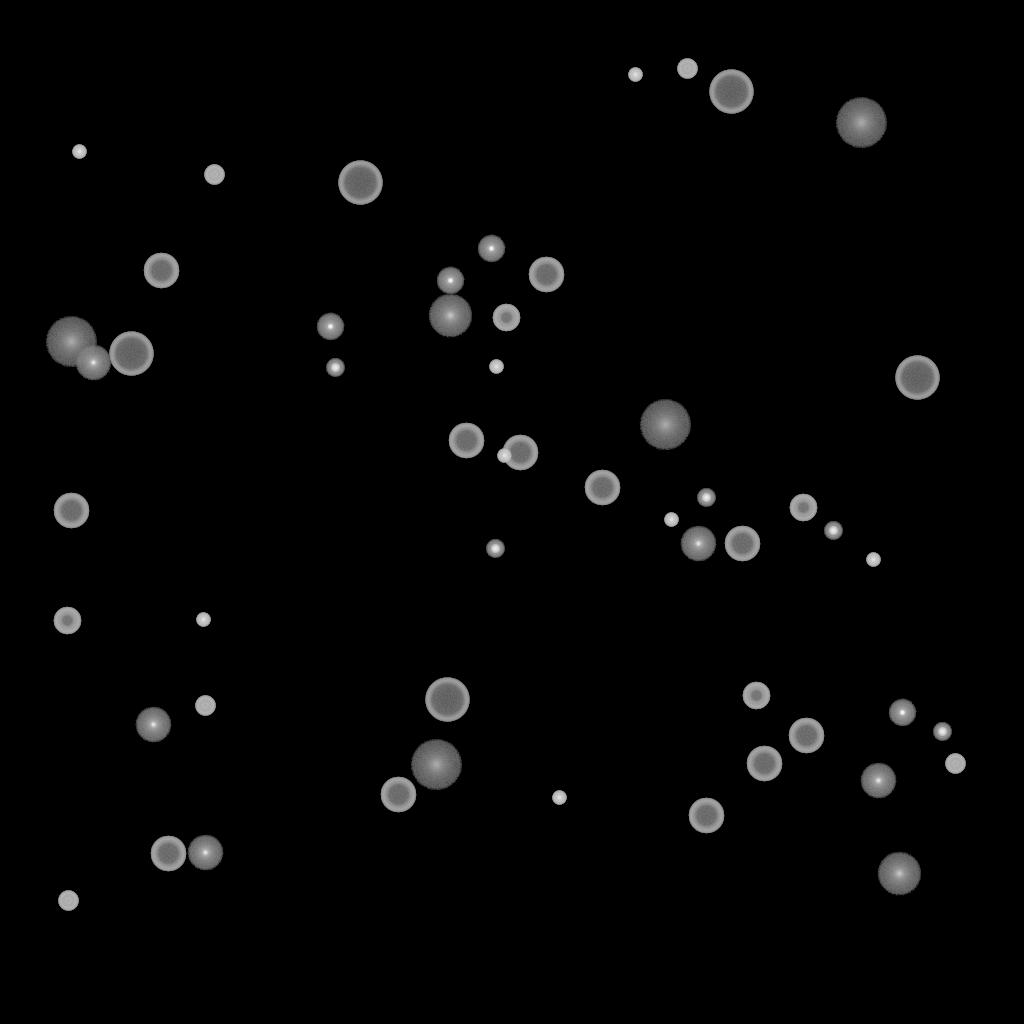depth:-10: (477, 235, 505, 263), (436, 267, 464, 295), (888, 699, 916, 727), (316, 313, 344, 341)
depth:-20: (326, 359, 344, 377), (697, 489, 715, 507), (933, 723, 951, 741), (486, 540, 504, 558), (824, 522, 842, 540)
depth:-30: (196, 613, 210, 627), (489, 360, 503, 374), (628, 68, 642, 82), (664, 513, 678, 527), (866, 553, 880, 567), (497, 449, 511, 463), (72, 145, 86, 159), (552, 791, 566, 805)
depth:-40: (195, 696, 215, 716), (58, 891, 78, 911), (945, 754, 965, 774), (204, 165, 224, 185), (677, 59, 697, 79)
depth:-50: (742, 682, 770, 710), (492, 304, 520, 332), (53, 607, 81, 635), (789, 494, 817, 522)
depth:-60: (380, 777, 416, 813), (746, 746, 782, 782), (150, 836, 186, 872), (688, 798, 724, 834), (788, 718, 824, 754), (53, 493, 89, 529), (143, 253, 179, 289), (724, 526, 760, 562), (528, 257, 564, 293), (448, 423, 484, 459), (584, 470, 620, 506), (502, 435, 538, 471)
depth:-70: (338, 161, 382, 205), (425, 678, 469, 722), (109, 332, 153, 376), (895, 356, 939, 400), (709, 70, 753, 114)
depth:0: (75, 345, 111, 381), (187, 835, 223, 871), (135, 707, 171, 743), (860, 763, 896, 799), (680, 526, 716, 562)
depth:10: (877, 852, 921, 896), (428, 294, 472, 338)
depth:20: (45, 317, 97, 367), (835, 98, 887, 148), (410, 740, 462, 790), (639, 400, 691, 450)
